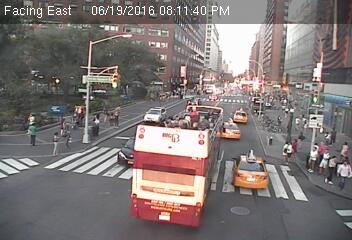neg: (205, 72, 226, 100), (50, 19, 69, 44), (258, 41, 276, 66), (159, 25, 176, 47), (73, 59, 89, 81), (281, 81, 297, 102), (86, 26, 102, 46), (8, 29, 23, 49), (99, 67, 114, 86), (253, 79, 267, 99), (192, 32, 205, 50), (162, 79, 172, 91)
pos: (324, 154, 347, 184), (316, 146, 337, 174), (24, 120, 44, 146), (334, 158, 351, 188), (43, 130, 62, 156), (336, 138, 351, 164), (88, 115, 105, 137), (112, 109, 126, 127), (64, 130, 77, 148), (56, 116, 69, 134), (284, 142, 297, 159), (276, 111, 286, 124)
